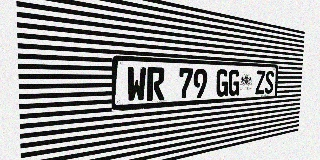7: (177, 68, 193, 99)
9: (193, 68, 207, 98)
G: (216, 69, 229, 97), (228, 69, 240, 96)
R: (147, 67, 165, 101)
S: (264, 70, 274, 94)
W: (126, 66, 146, 102)
Z: (255, 70, 265, 94)
